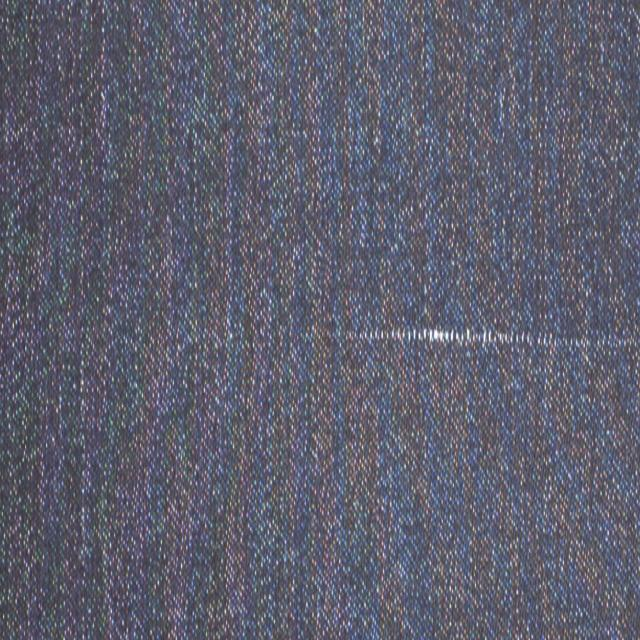Line: (328, 328, 640, 350)
